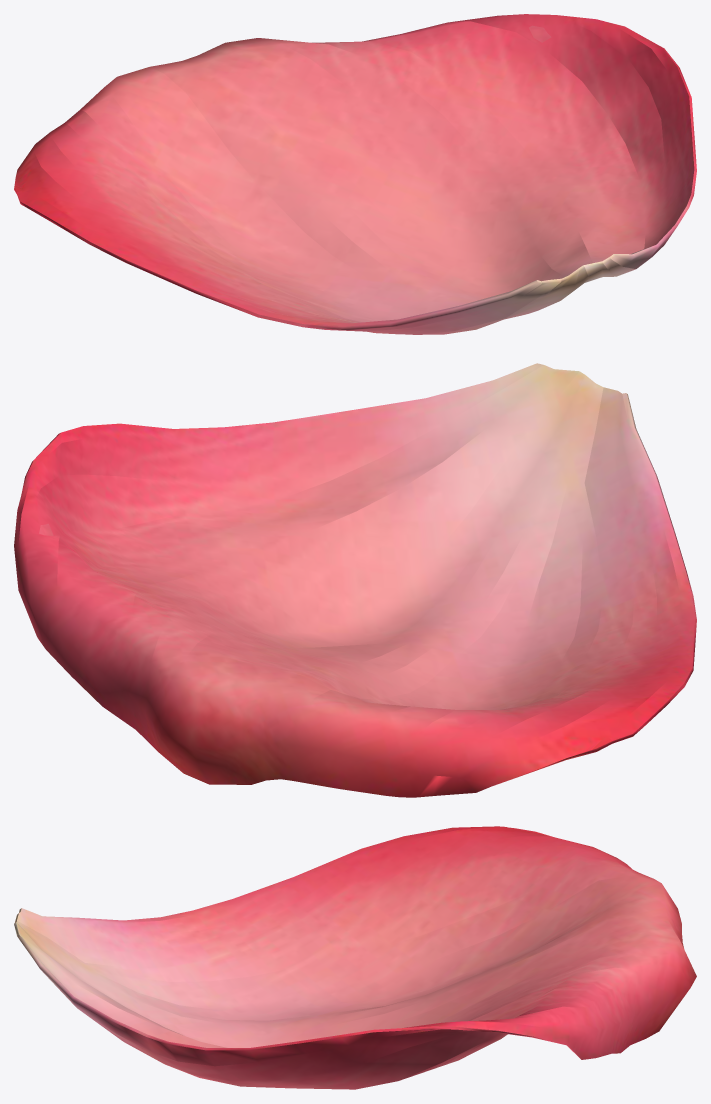
Rendered from flower4.obj.
The picture shows the model from 3 angles, top to bottom: view 1: azimuth 30°, elevation 25°; view 2: azimuth 150°, elevation 25°; view 3: azimuth 270°, elevation 25°; orthographic projection. The views are drawn at different scales.
Parts seen in each view (by area): view 1: 3d66-Editable_mesh-20557473-001.010; view 2: 3d66-Editable_mesh-20557473-001.010; view 3: 3d66-Editable_mesh-20557473-001.010.
Part boxes in pixels (x1,y1,x2,y2): 3d66-Editable_mesh-20557473-001.010: [14, 14, 696, 334]; 3d66-Editable_mesh-20557473-001.010: [14, 363, 696, 797]; 3d66-Editable_mesh-20557473-001.010: [14, 826, 696, 1089].
Bounding box in the file's own units: 0.2498 × 0.0654 × 0.2677.
Materials: 1 (1 with a texture image).
